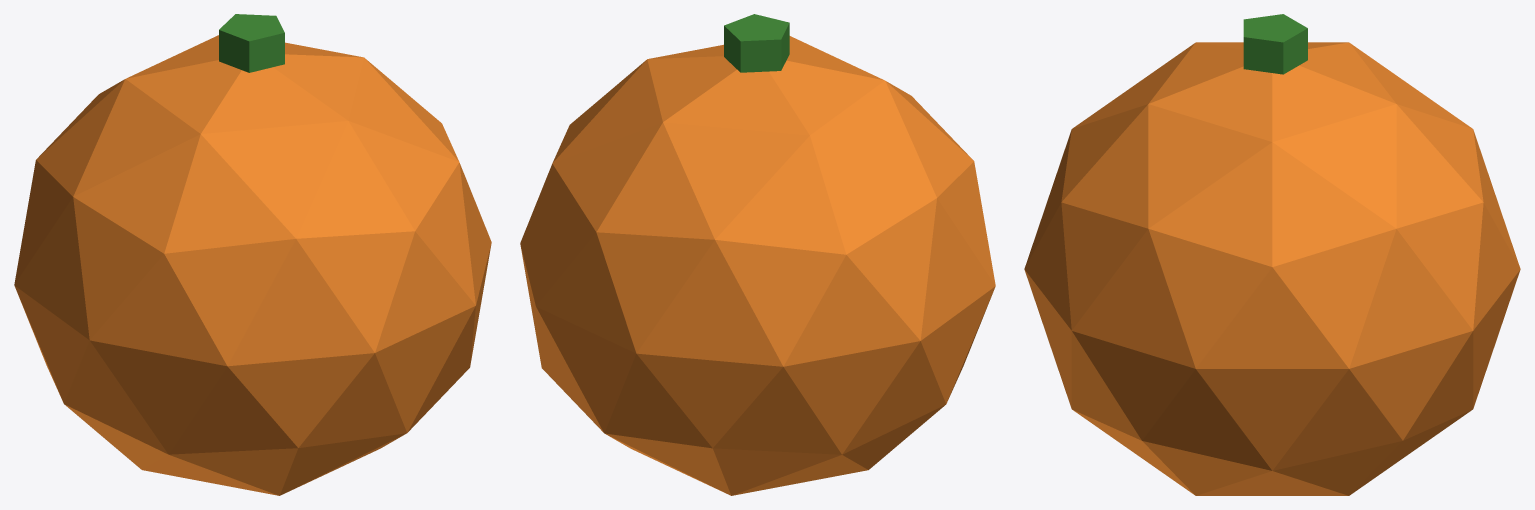
File: fruit_orange.glb
The picture shows the model from 3 angles, left to right: view 1: azimuth 30°, elevation 25°; view 2: azimuth 150°, elevation 25°; view 3: azimuth 270°, elevation 25°; orthographic projection. The views are drawn at different scales.
Visible parts, largest first — view 1: fruit_orange; view 2: fruit_orange; view 3: fruit_orange.
Boxes of the visible parts, <box> form: fruit_orange: <box>14,14,491,495</box>; fruit_orange: <box>520,14,995,495</box>; fruit_orange: <box>1024,14,1520,495</box>.
Bounding box in the file's own units: 0.0799 × 0.085 × 0.084.
